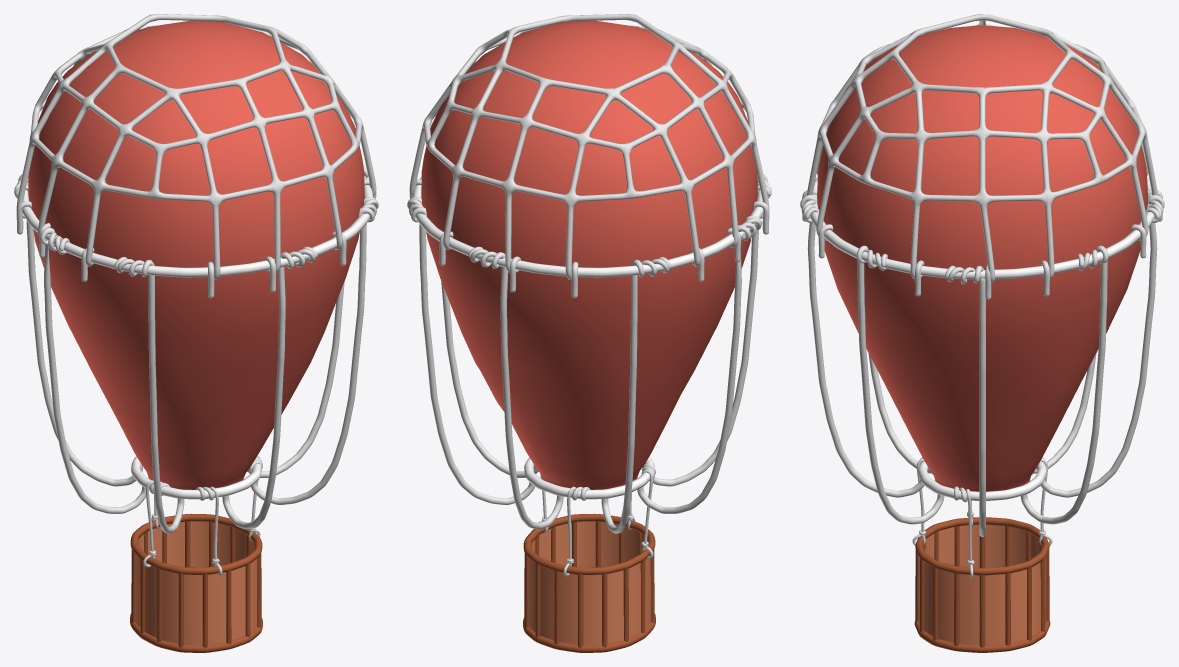
Rendered from ballon2.gltf.
3 renders of one model, left to right at view 1: azimuth 30°, elevation 25°; view 2: azimuth 150°, elevation 25°; view 3: azimuth 270°, elevation 25°, orthographic.
Visible parts, largest first — view 1: Cube.028, Cube, Cube.002, Cube.005, Cube.027, Cube.023, Cube.024, Cube.006, Cube.025, Cube.003; view 2: Cube.028, Cube, Cube.002, Cube.005, Cube.027, Cube.023, Cube.024, Cube.006, Cube.003, Cube.025; view 3: Cube.028, Cube, Cube.002, Cube.005, Cube.027, Cube.023, Cube.024, Cube.006, Cube.030, Cube.003, Cube.025.
Boxes of the visible parts, x1,y1,x2,y2 form: Cube.028: (28,20,364,489); Cube: (16,14,376,298); Cube.002: (14,164,378,533); Cube.005: (131,521,261,648); Cube.027: (22,176,373,277); Cube.023: (130,513,262,574); Cube.024: (131,456,261,499); Cube.006: (130,613,262,652); Cube.025: (143,455,262,567); Cube.003: (151,486,222,576); Cube.028: (421,20,757,489); Cube: (409,14,769,298); Cube.002: (407,174,771,533); Cube.005: (524,521,654,648); Cube.027: (412,176,763,277); Cube.023: (523,513,655,574); Cube.024: (524,456,654,499); Cube.006: (523,613,655,652); Cube.003: (563,486,635,576); Cube.025: (538,463,655,559); Cube.028: (817,25,1147,491); Cube: (802,14,1162,299); Cube.002: (807,223,1157,536); Cube.005: (915,524,1049,647); Cube.027: (810,176,1154,279); Cube.023: (915,517,1049,575); Cube.024: (918,461,1046,500); Cube.006: (914,621,1050,652); Cube.030: (800,195,1164,222); Cube.003: (912,457,1052,545); Cube.025: (953,486,974,577).
Size of the model in its own units: 2.61 by 4.61 by 2.61.
